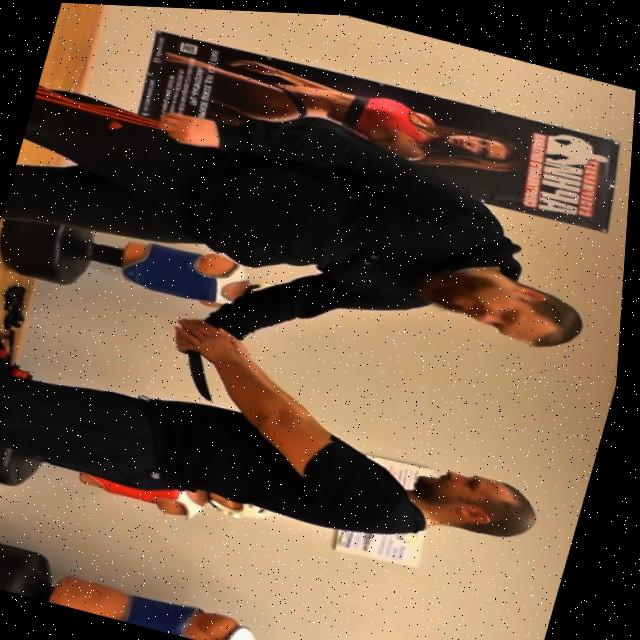knife: (176, 347, 232, 399)
